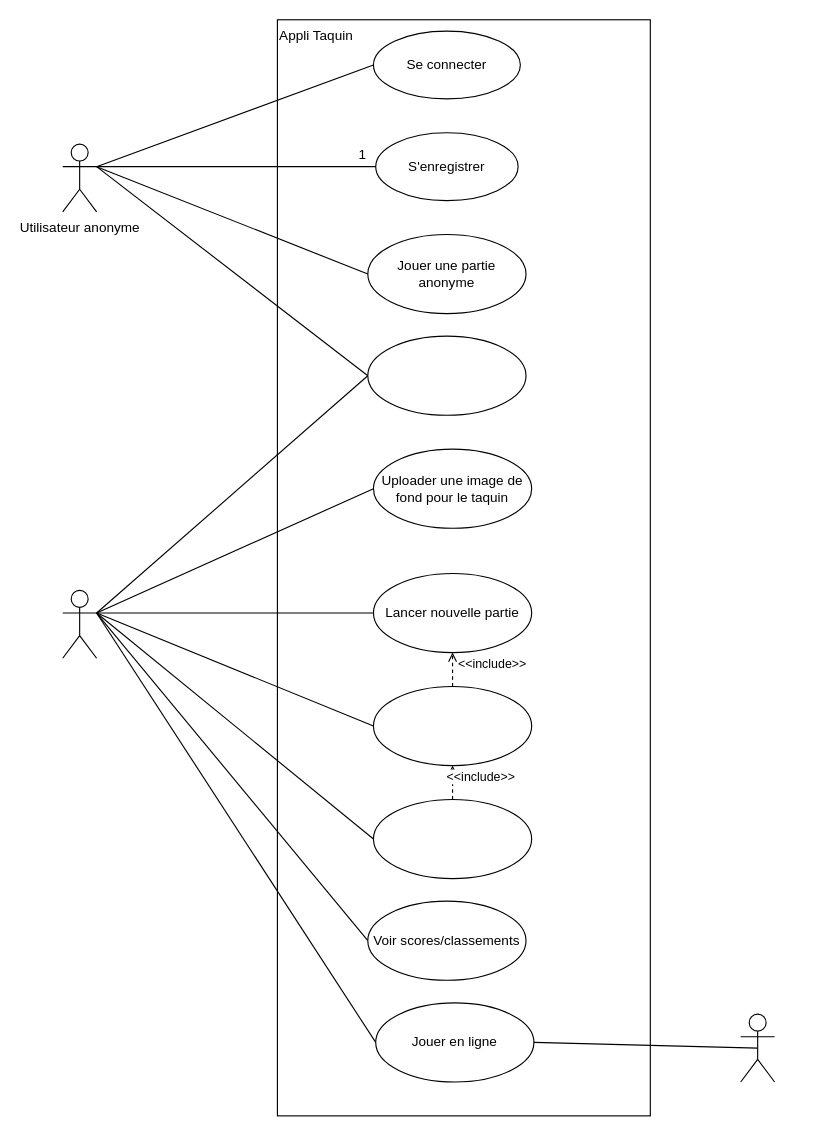
Some shapes in this 820 by 1136 pixel diagram are drawn without their labels. The centre of each missing label's shape, as x and y in pixels:
Changer le style de l'application Taquin: the point at 446,375
Enregistrer partie actuelle: the point at 452,725
Reprendre partie enregistrée: the point at 452,838
Second joueur: the point at 757,1047
Utilisateur connecté: the point at 79,623
